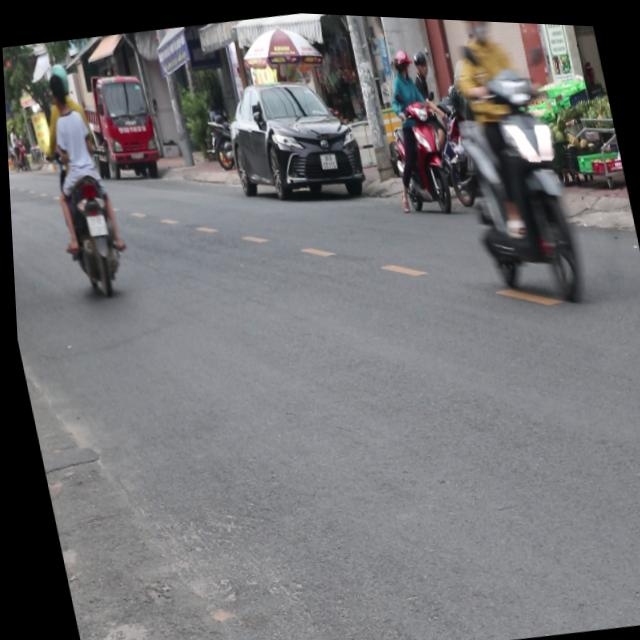helmet: (457, 16, 498, 41), (391, 43, 412, 73)
licenseplate: (421, 15, 593, 311), (27, 56, 134, 299), (369, 37, 460, 215)
motorcyclist: (45, 70, 72, 115)
nohelmet: (83, 212, 105, 235)
